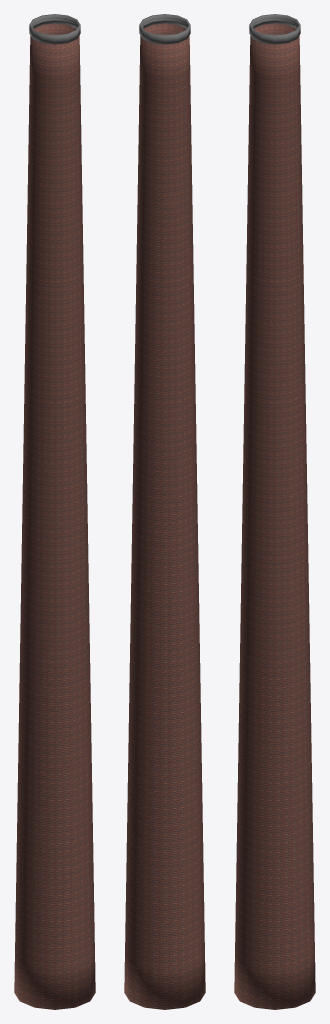
File: tako.obj
3 renders of one model, left to right at view 1: azimuth 90°, elevation 25°; view 2: azimuth 150°, elevation 25°; view 3: azimuth 270°, elevation 25°, orthographic.
Visible parts, largest first — view 1: Cylinder.001_Cylinder.000; view 2: Cylinder.001_Cylinder.000; view 3: Cylinder.001_Cylinder.000.
Boxes of the visible parts, x1,y1,x2,y2 form: Cylinder.001_Cylinder.000: [14, 14, 95, 1009]; Cylinder.001_Cylinder.000: [124, 14, 205, 1009]; Cylinder.001_Cylinder.000: [234, 14, 315, 1009].
Size of the model in its own units: 6.39 by 83.9 by 6.39.
Materials: 2 (1 with a texture image).
